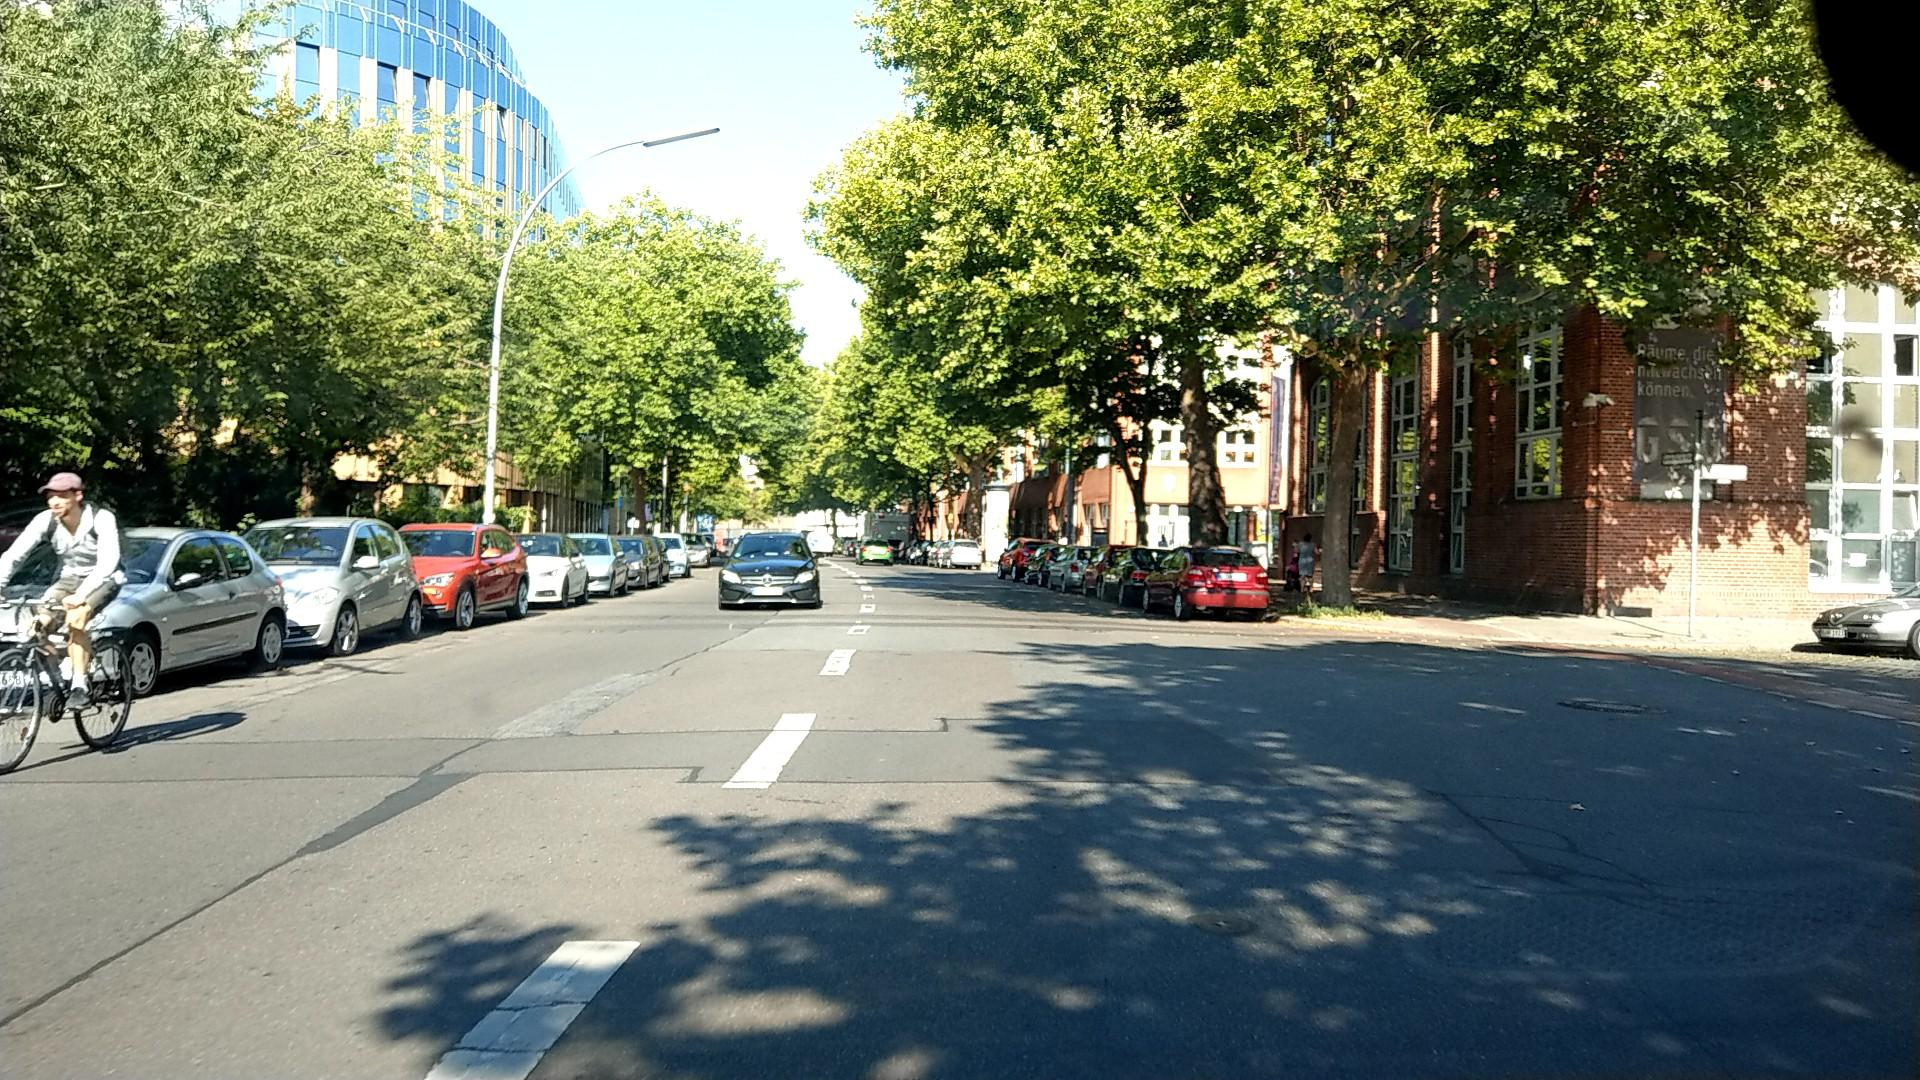Human face: (43, 486, 84, 520)
Vehicle registration plate: (1215, 572, 1247, 581), (751, 587, 782, 596), (1819, 629, 1846, 638)
